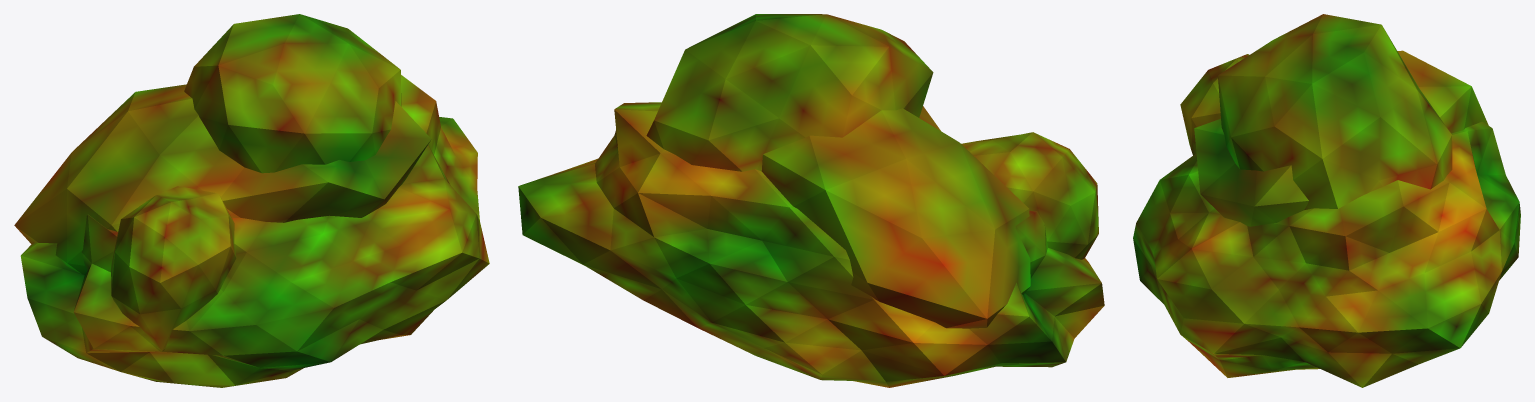
The model's file is 大型金矿_03_层叠.fbx.
3 views of the same model, side by side, from view 1: azimuth 30°, elevation 25°; view 2: azimuth 150°, elevation 25°; view 3: azimuth 270°, elevation 25° (orthographic). The views are drawn at different scales.
Parts seen in each view (by area): view 1: GoldOre_Large_03; view 2: GoldOre_Large_03; view 3: GoldOre_Large_03.
Part boxes in pixels (<box>): GoldOre_Large_03: <box>14,14,489,387</box>; GoldOre_Large_03: <box>518,14,1104,387</box>; GoldOre_Large_03: <box>1133,14,1520,387</box>.
Bounding box in the file's own units: 1.95 × 1.2 × 1.37.
